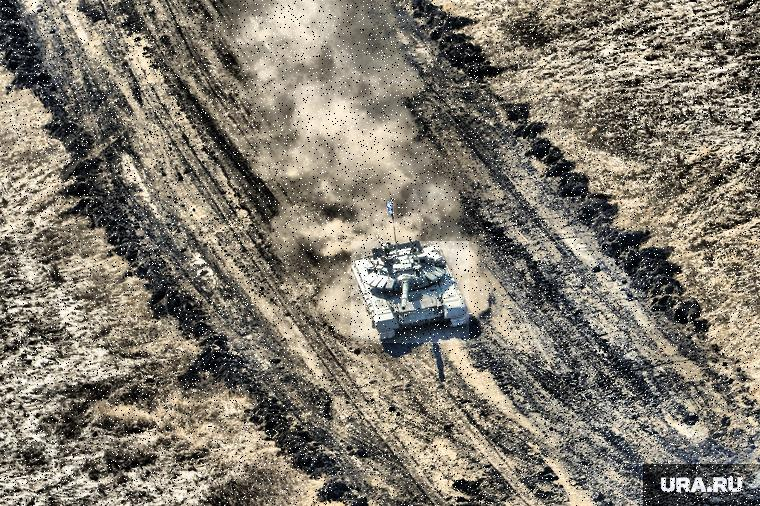military-vehicle: (351, 242, 469, 344)
